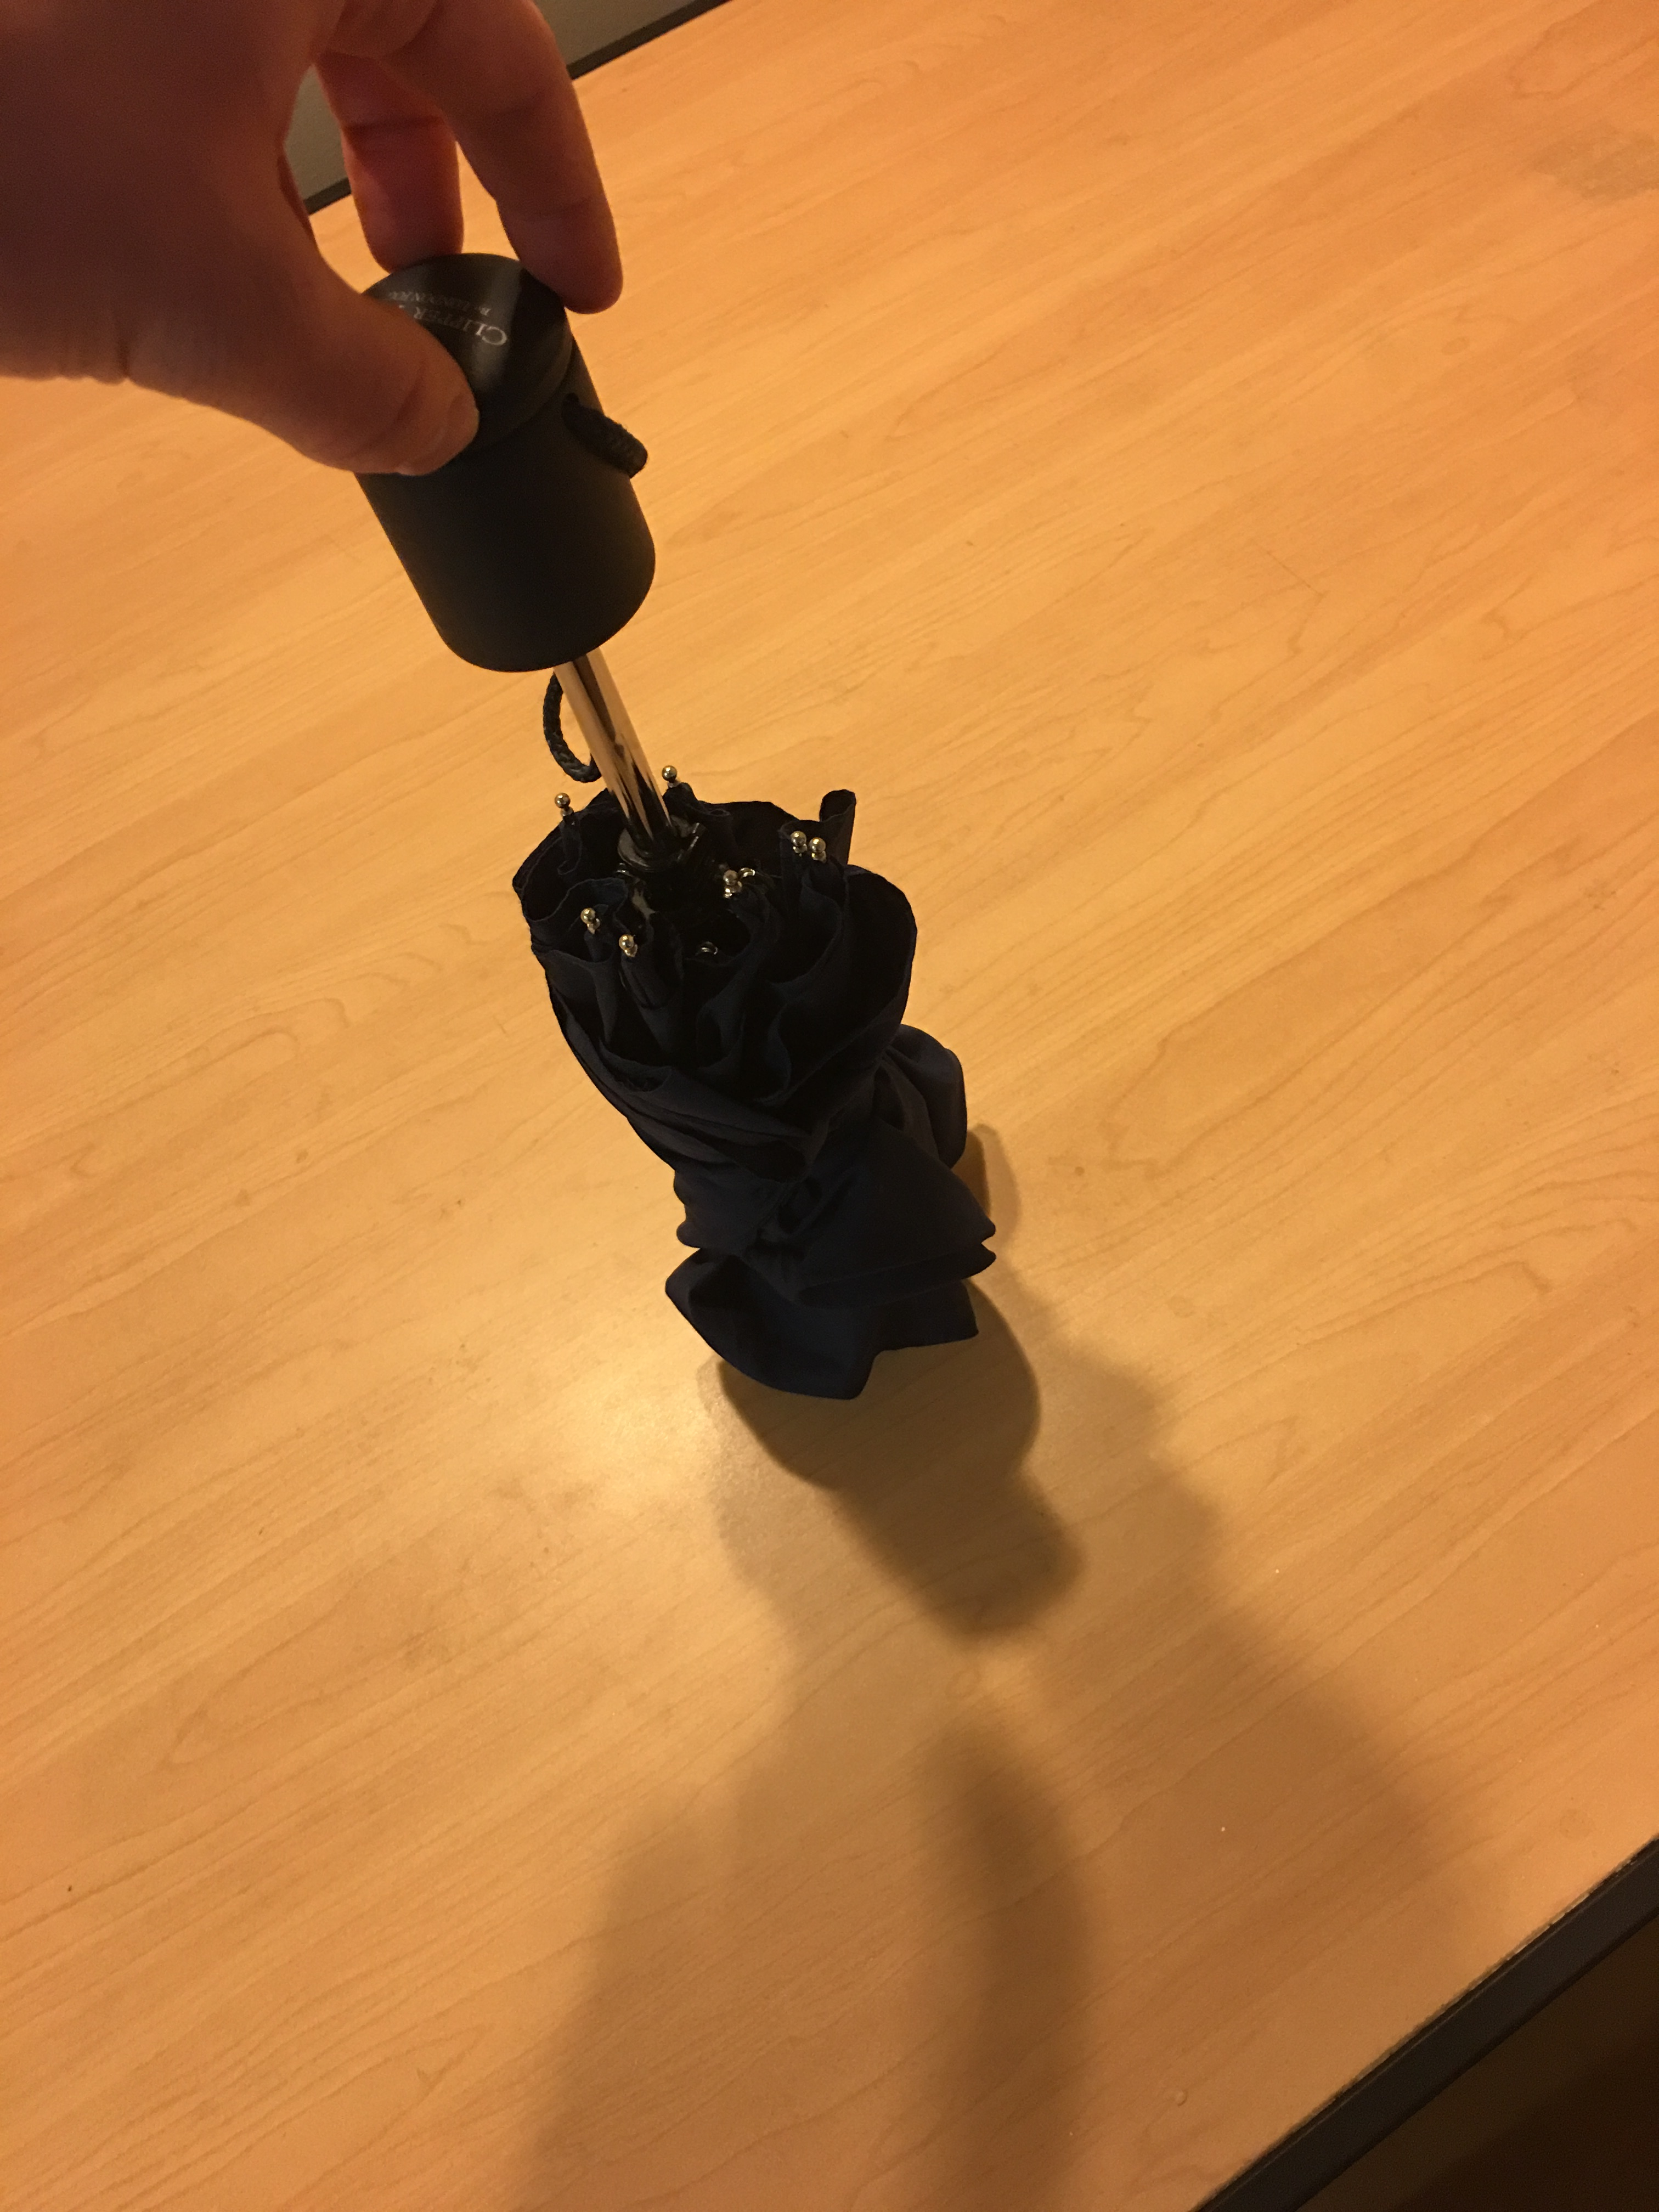Umbrella: (335, 242, 1007, 1379)
